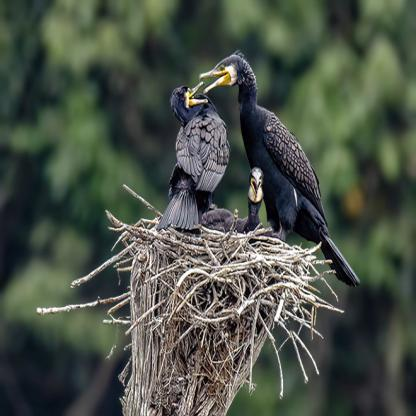Burung: (198, 50, 384, 288), (163, 83, 234, 228), (200, 166, 266, 240)
